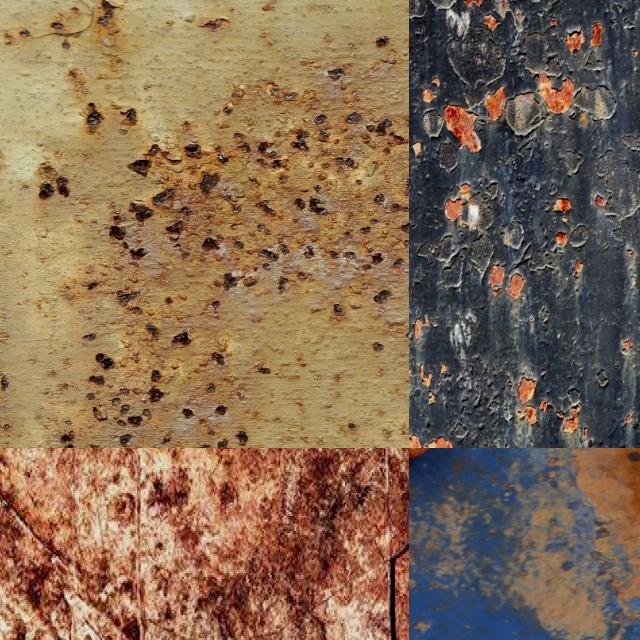Pitting Corrosion: (0, 30, 409, 448)
Uniform Corrosion: (515, 448, 640, 640), (483, 70, 516, 129), (443, 106, 480, 151), (444, 184, 480, 230), (538, 72, 574, 113), (619, 324, 640, 362), (553, 197, 575, 220), (517, 377, 536, 403), (550, 230, 570, 254), (566, 29, 584, 52), (507, 273, 524, 297), (490, 265, 504, 293), (563, 409, 578, 433), (591, 22, 601, 46), (483, 14, 497, 30), (464, 0, 482, 7)
